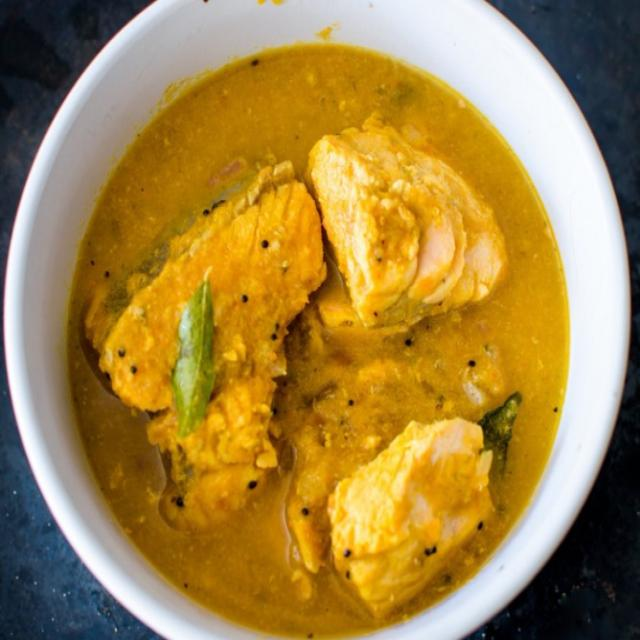FISH CURRY: (60, 53, 565, 638)
